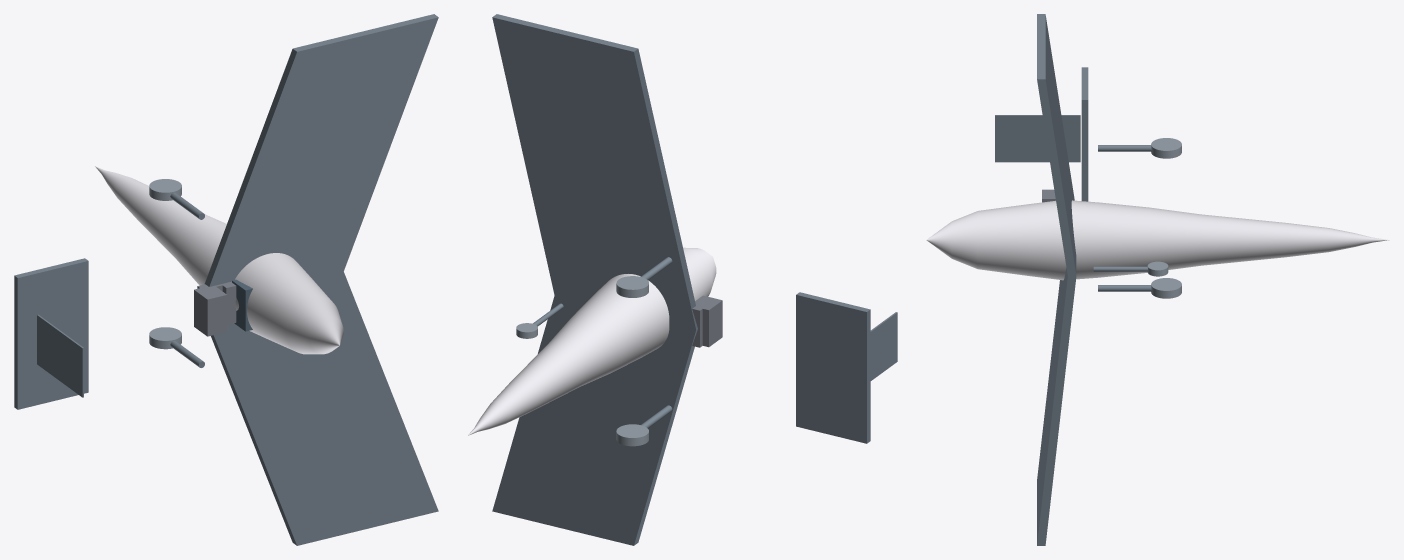
File: jet_semi_realistic.gltf
3 views of the same model, side by side, from view 1: azimuth 30°, elevation 25°; view 2: azimuth 150°, elevation 25°; view 3: azimuth 270°, elevation 25° (orthographic). The views are drawn at different scales.
Parts seen in each view (by area): view 1: JetNode; view 2: JetNode; view 3: JetNode.
Boxes of the visible parts, x1=… form: JetNode: x1=14, y1=14, x2=438, y2=545; JetNode: x1=468, y1=14, x2=897, y2=545; JetNode: x1=926, y1=14, x2=1388, y2=545.
Bounding box in the file's own units: 5.05 × 6 × 5.4.
